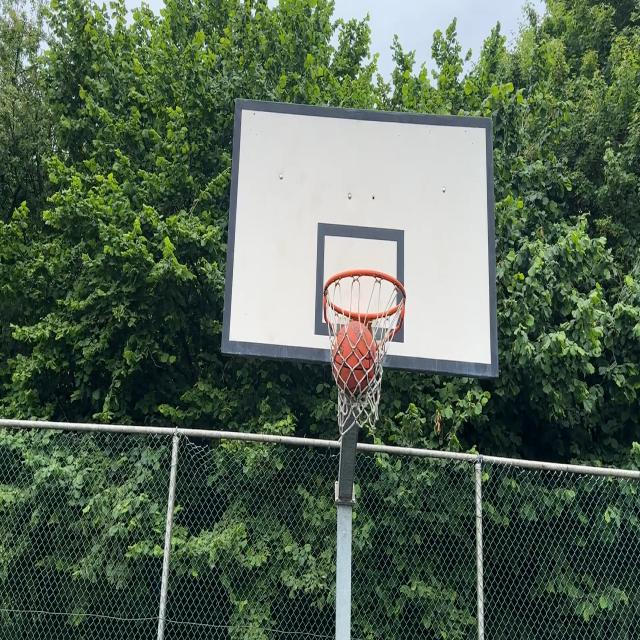Goal: (334, 325, 376, 399)
